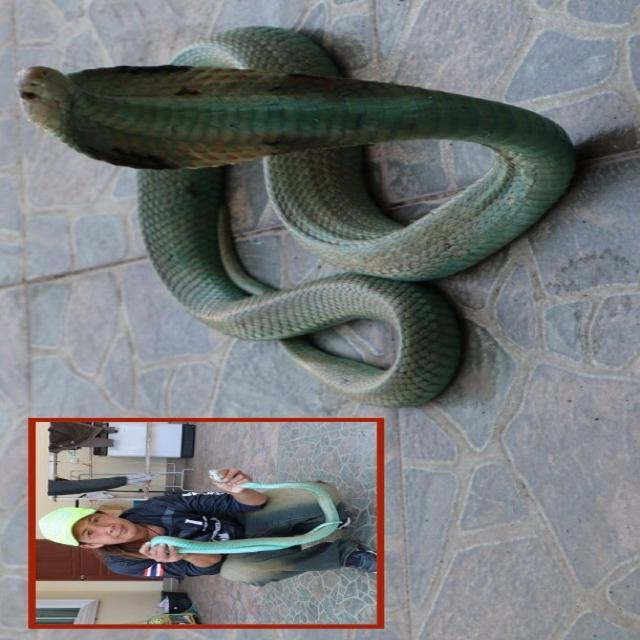Venomous: (27, 54, 346, 159)
